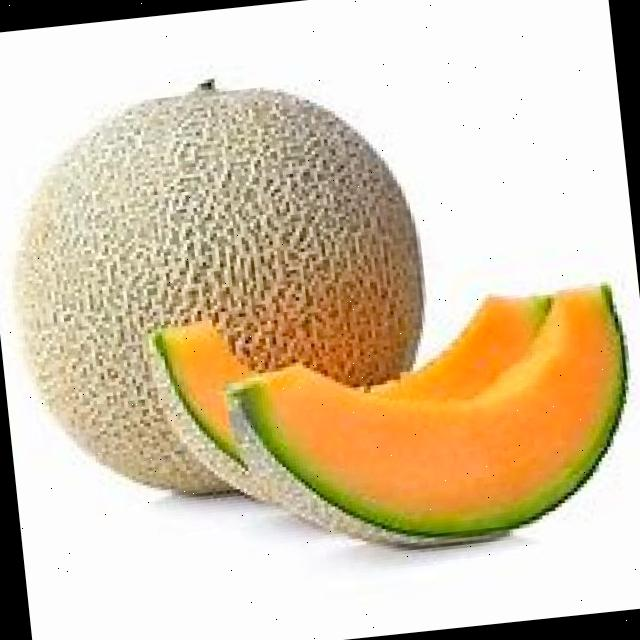Hami Melon: (0, 70, 441, 515)
